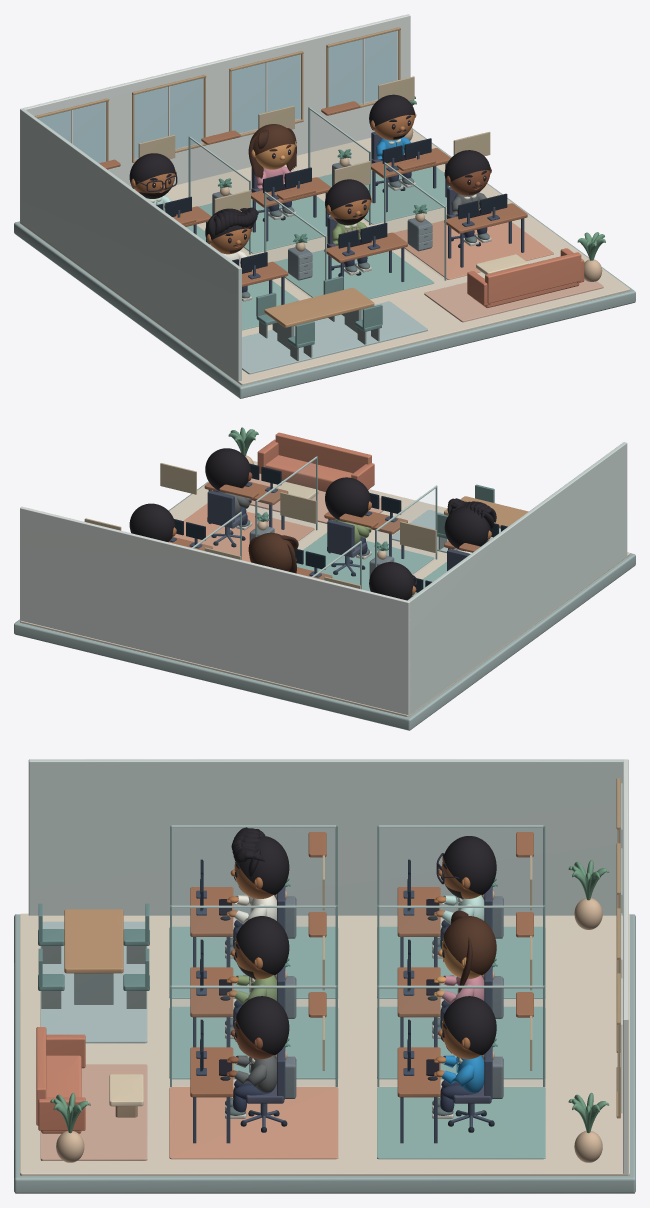
Rendered from office.glb.
The picture shows the model from 3 angles, top to bottom: view 1: azimuth 30°, elevation 25°; view 2: azimuth 150°, elevation 25°; view 3: azimuth 270°, elevation 25°; orthographic projection. The views are drawn at different scales.
Visible parts, largest first — view 1: Side wall, Back wall, Window (×4), Workspace rug (×5), Pale oak floor, Office foundation, Meeting rug, Sculpted hair cap (×5), Walnut desktop (×5), Pinboard (×6), Sofa back, Face and jaw (×4) (+4 smaller); view 2: Back wall, Side wall, Office foundation, Sculpted hair cap (×6), Pale oak floor, Workspace rug (×2), Pinboard (×3), Sofa back, Backrest (×2), Sofa seat, Walnut desktop (×2), Lounge rug (+2 smaller); view 3: Side wall, Pale oak floor, Workspace rug (×6), Office foundation, Sculpted hair cap (×6), Walnut desktop (×6), Lounge rug, Meeting rug, Meeting table, Back wall, Large planter (×3), Sofa arm (×2) (+5 smaller).
Part boxes in pixels (bbox=[...]): Side wall: bbox=[20, 108, 241, 381]; Back wall: bbox=[20, 14, 410, 221]; Window (×4): bbox=[38, 31, 397, 163]; Workspace rug (×5): bbox=[198, 167, 553, 330]; Pale oak floor: bbox=[20, 130, 629, 385]; Office foundation: bbox=[14, 128, 635, 398]; Meeting rug: bbox=[242, 301, 427, 374]; Sculpted hair cap (×5): bbox=[129, 94, 490, 214]; Walnut desktop (×5): bbox=[242, 148, 527, 286]; Pinboard (×6): bbox=[138, 76, 490, 213]; Sofa back: bbox=[485, 252, 581, 303]; Face and jaw (×4): bbox=[210, 115, 490, 254]; Back wall: bbox=[20, 506, 410, 715]; Side wall: bbox=[407, 442, 627, 714]; Office foundation: bbox=[14, 481, 635, 730]; Sculpted hair cap (×6): bbox=[129, 448, 490, 600]; Pale oak floor: bbox=[20, 461, 629, 716]; Workspace rug (×2): bbox=[173, 503, 434, 591]; Pinboard (×3): bbox=[160, 463, 436, 552]; Sofa back: bbox=[275, 432, 371, 472]; Backrest (×2): bbox=[207, 490, 354, 555]; Sofa seat: bbox=[265, 455, 368, 491]; Walnut desktop (×2): bbox=[204, 481, 407, 534]; Lounge rug: bbox=[249, 473, 383, 523]; Side wall: bbox=[28, 759, 626, 915]; Pale oak floor: bbox=[20, 913, 629, 1175]; Workspace rug (×6): bbox=[169, 926, 545, 1159]; Office foundation: bbox=[14, 914, 635, 1193]; Sculpted hair cap (×6): bbox=[236, 836, 496, 1054]; Walnut desktop (×6): bbox=[190, 887, 440, 1097]; Lounge rug: bbox=[40, 1064, 147, 1160]; Meeting rug: bbox=[40, 921, 147, 1043]; Meeting table: bbox=[64, 909, 123, 973]; Back wall: bbox=[623, 759, 628, 1174]; Large planter (×3): bbox=[56, 898, 602, 1162]; Sofa arm (×2): bbox=[38, 1034, 85, 1130].
Bounding box in the file's own units: 10.6 × 3.22 × 10.5.
